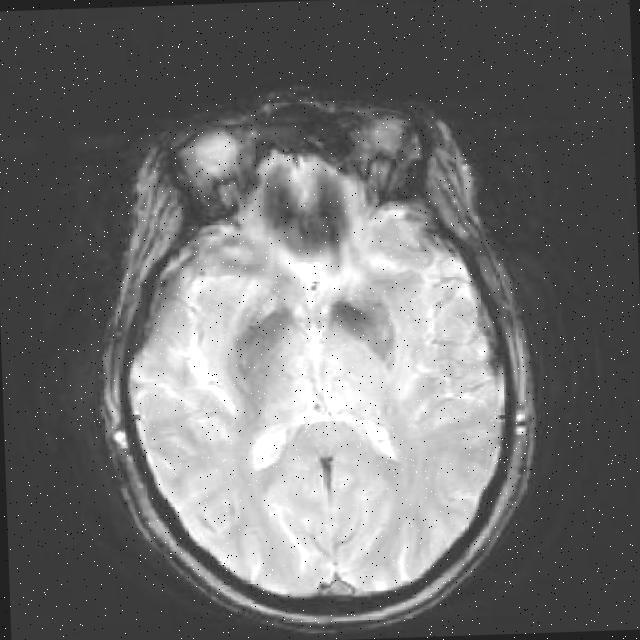LMCI: (256, 157, 348, 267)
MCI: (237, 290, 304, 392), (337, 286, 404, 367)
